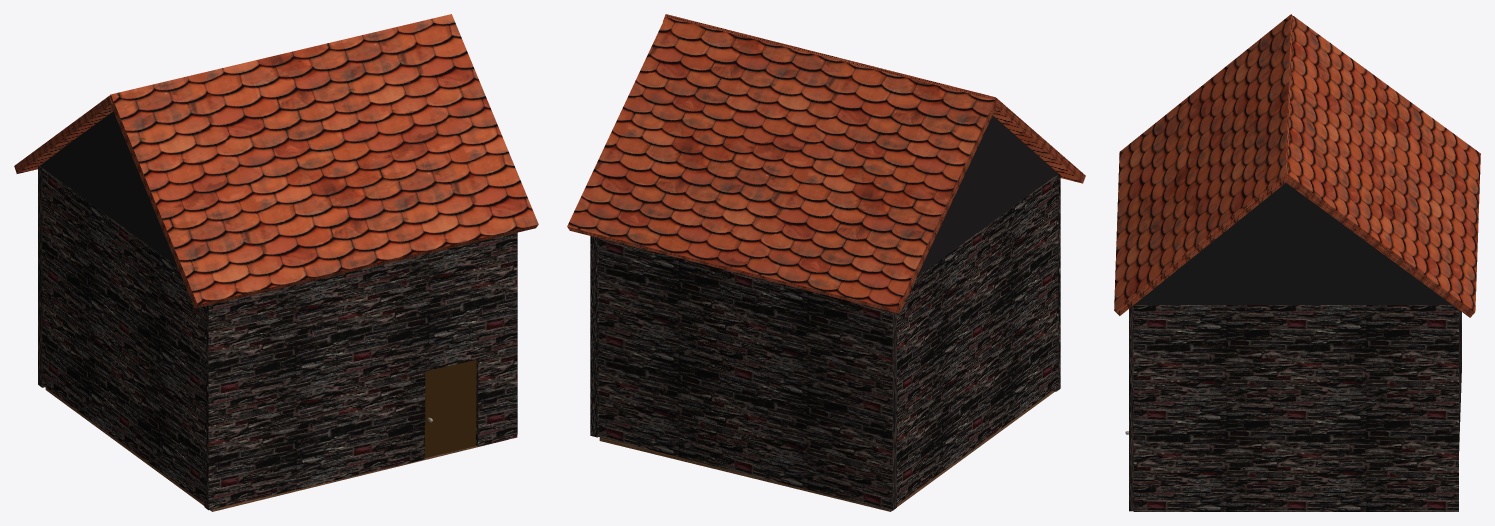
File: AmiRoom.fbx
3 views of the same model, side by side, from view 1: azimuth 30°, elevation 25°; view 2: azimuth 150°, elevation 25°; view 3: azimuth 270°, elevation 25° (orthographic). The views are drawn at different scales.
Parts seen in each view (by area): view 1: pCube11, pCube5, pCube3, pCube13, pCube6, pCube10, pCube1, pCube4; view 2: pCube10, pCube4, pCube3, pCube13, pCube11, pCube2, pCube1, pCube5; view 3: pCube2, pCube10, pCube11, pCube12, pCube5.
Boxes of the visible parts, left/top/right/bottom form: pCube11: left=110, top=14, right=538, bottom=308; pCube5: left=204, top=233, right=517, bottom=510; pCube3: left=42, top=168, right=206, bottom=504; pCube13: left=40, top=111, right=177, bottom=266; pCube6: left=424, top=359, right=476, bottom=457; pCube10: left=14, top=95, right=112, bottom=173; pCube1: left=45, top=388, right=506, bottom=511; pCube4: left=38, top=165, right=44, bottom=387; pCube10: left=567, top=17, right=997, bottom=313; pCube4: left=598, top=238, right=896, bottom=510; pCube3: left=897, top=173, right=1058, bottom=504; pCube13: left=917, top=115, right=1057, bottom=276; pCube11: left=663, top=14, right=1085, bottom=183; pCube2: left=590, top=236, right=598, bottom=437; pCube1: left=599, top=391, right=1054, bottom=511; pCube5: left=1053, top=174, right=1060, bottom=391; pCube2: left=1133, top=305, right=1458, bottom=511; pCube10: left=1286, top=16, right=1480, bottom=317; pCube11: left=1114, top=14, right=1293, bottom=315; pCube12: left=1134, top=183, right=1451, bottom=304; pCube5: left=1129, top=305, right=1133, bottom=511.
Bounding box in the file's own units: 21.11 × 21.43 × 20.39.
